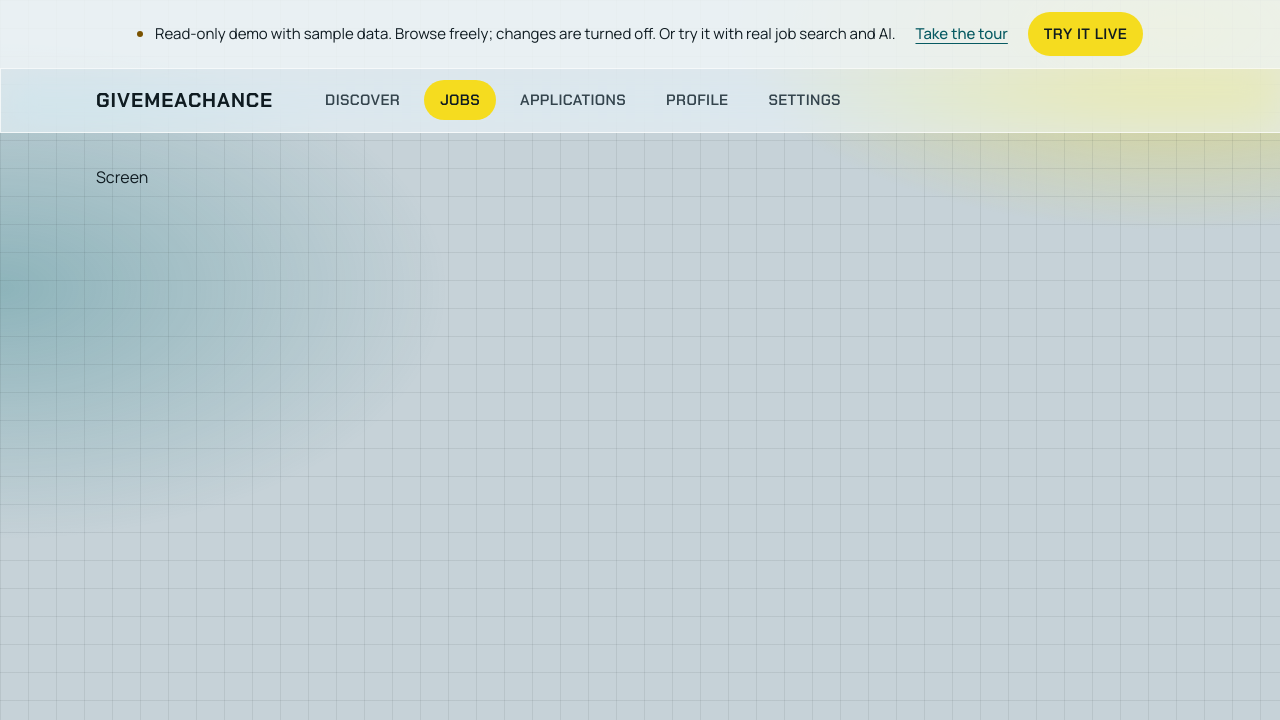
Test: AppShell demo mode › offers a guest workspace in the live demo and a way back from it
Click the button "Try it live".
click(1085, 34)  # box left=1028, top=12, right=1143, bottom=56
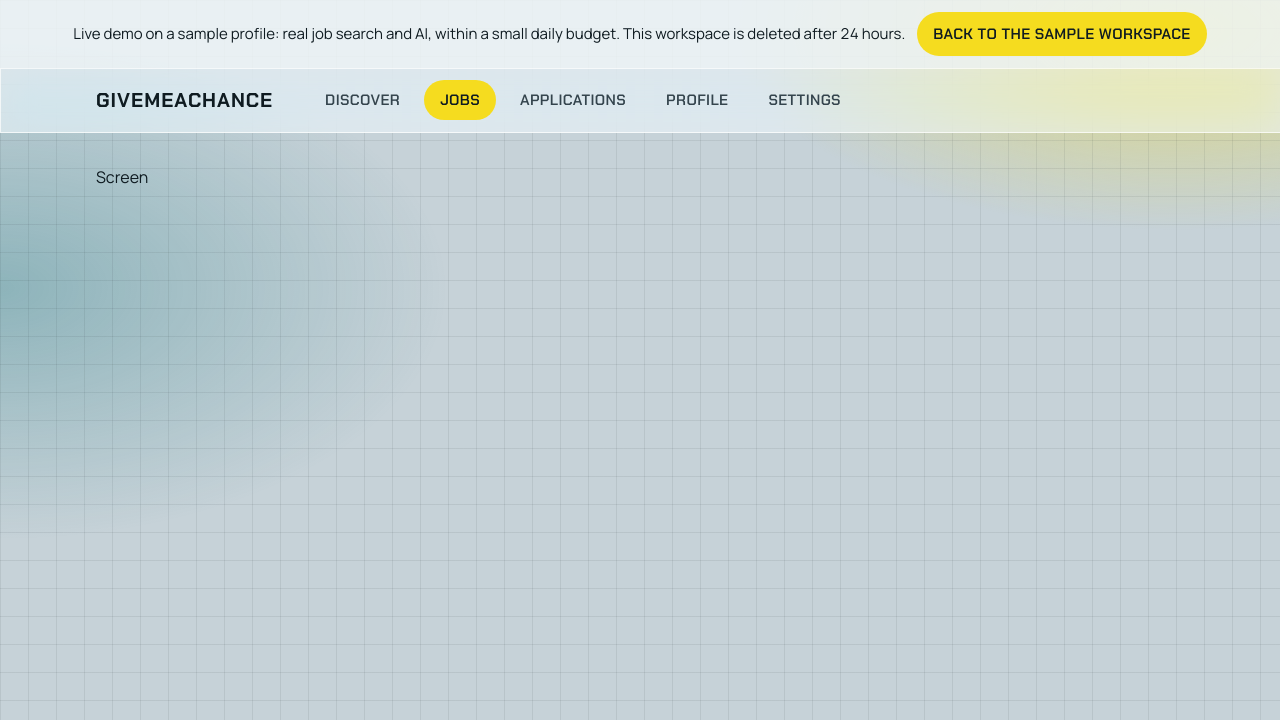
Expected: the message shows "deleted after 24 hours", left=616, top=23, right=905, bottom=44
Click the button "Back to the sample workspace".
click(1062, 34)  # box left=917, top=12, right=1207, bottom=56
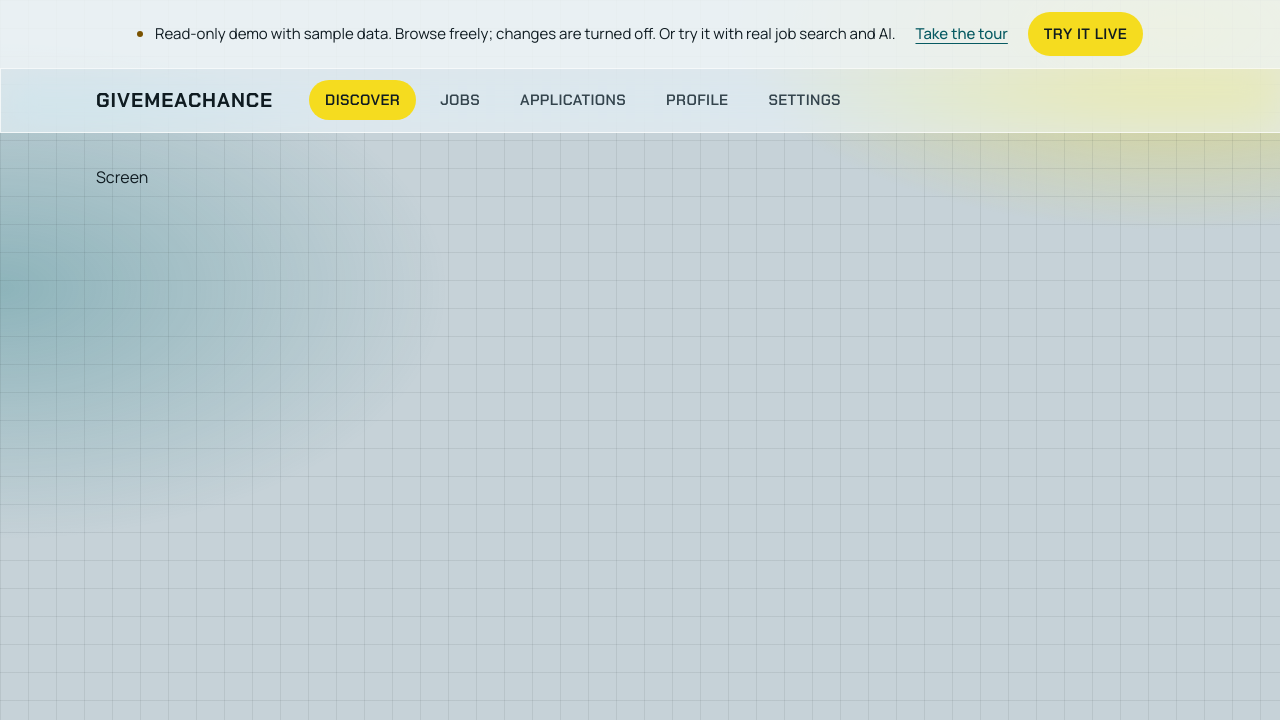
Expected: the button "Try it live" is shown, left=1028, top=12, right=1143, bottom=56
